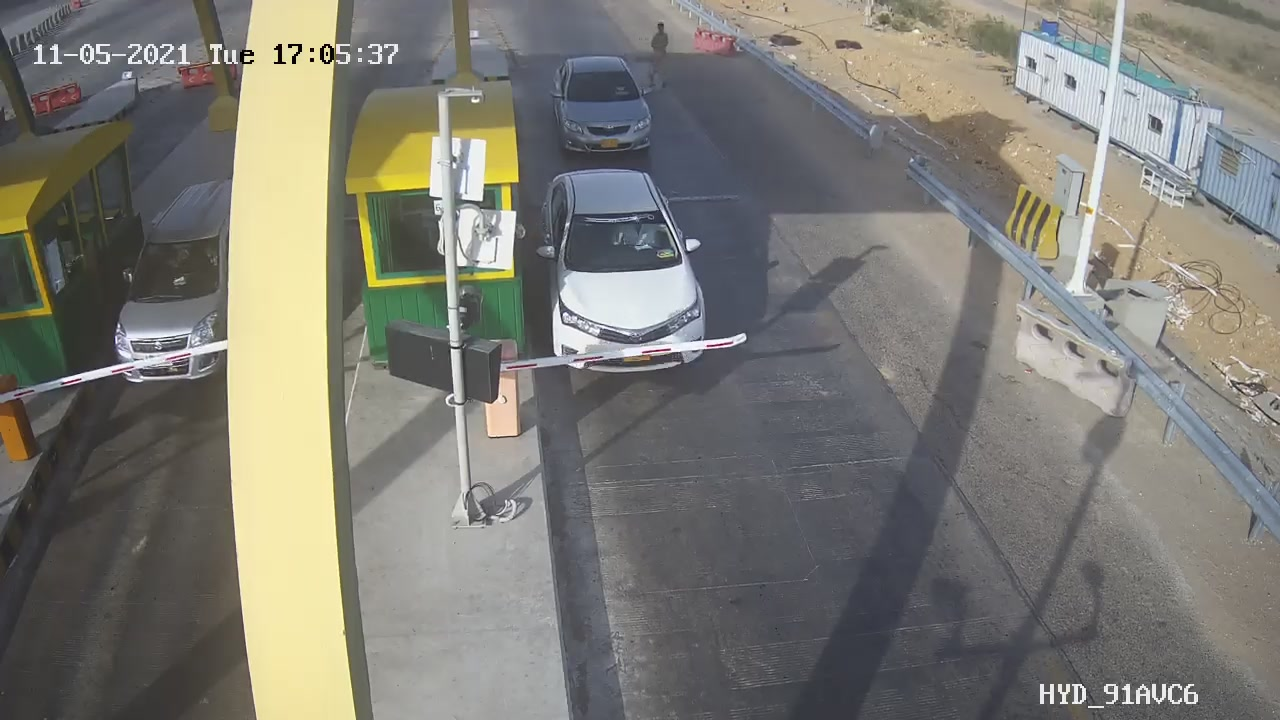F1: (517, 149, 731, 392), (535, 44, 672, 166)
